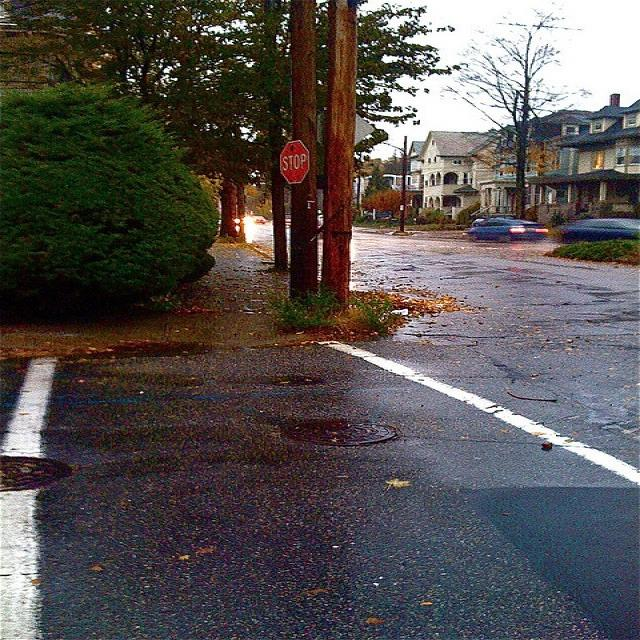car: (462, 216, 550, 242), (560, 217, 637, 242), (248, 214, 265, 224), (282, 212, 290, 225)
pole: (318, 0, 366, 300), (276, 0, 321, 301), (397, 134, 408, 231)
